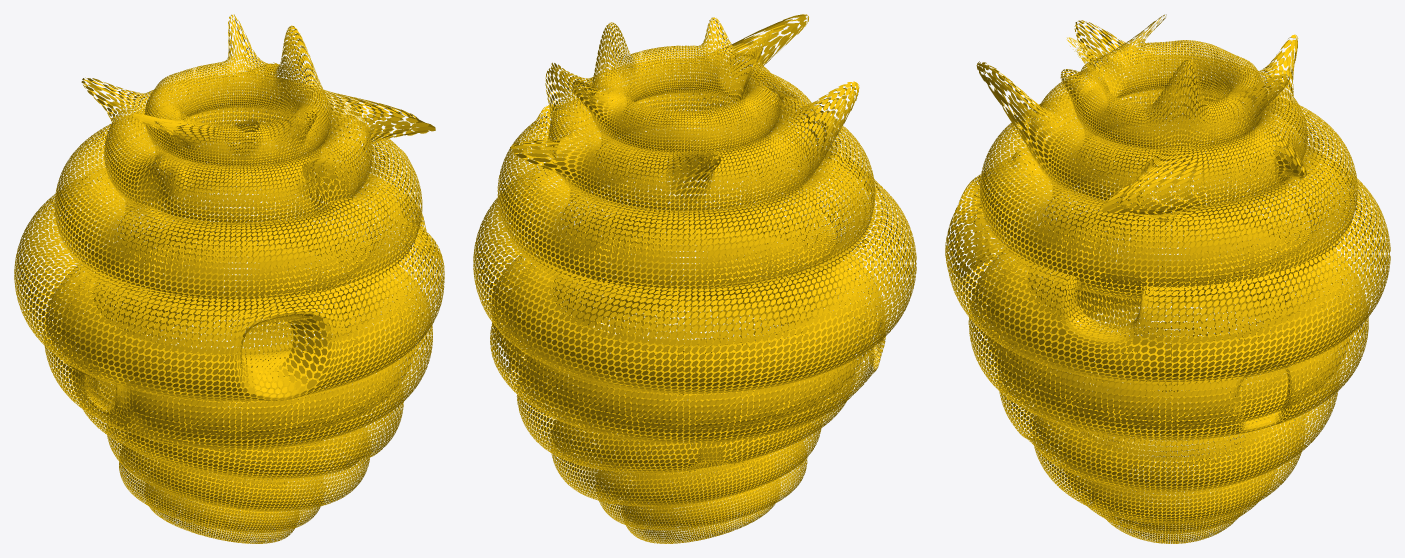
Rendered from ruche.glb.
3 views of the same model, side by side, from view 1: azimuth 30°, elevation 25°; view 2: azimuth 150°, elevation 25°; view 3: azimuth 270°, elevation 25° (orthographic). The views are drawn at different scales.
Visible parts, largest first — view 1: Torus.006; view 2: Torus.006; view 3: Torus.006.
Part boxes in pixels (x1,y1,x2,y2): Torus.006: (14, 14, 444, 543); Torus.006: (473, 14, 916, 543); Torus.006: (945, 14, 1390, 543).
Size of the model in its own units: 3.35 by 4.15 by 3.37.
